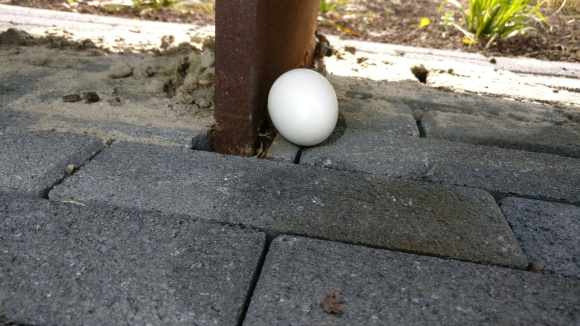egg: (267, 68, 341, 149)
